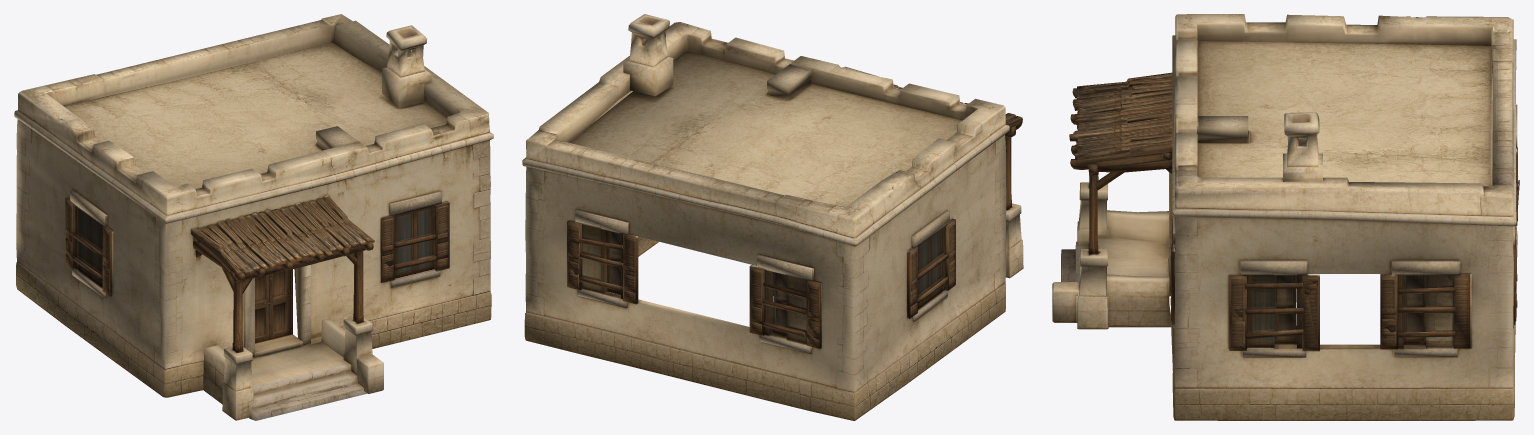
Rendered from generated-1948-03-netanya-flat-roof-porch-house.glb.
3 views of the same model, side by side, from view 1: azimuth 30°, elevation 25°; view 2: azimuth 150°, elevation 25°; view 3: azimuth 270°, elevation 25° (orthographic). The views are drawn at different scales.
Parts seen in each view (by area): view 1: tripo_node_6716e14b-27ac-4070-aac0-211de41f4bcf; view 2: tripo_node_6716e14b-27ac-4070-aac0-211de41f4bcf; view 3: tripo_node_6716e14b-27ac-4070-aac0-211de41f4bcf.
Part boxes in pixels (<box>): tripo_node_6716e14b-27ac-4070-aac0-211de41f4bcf: <box>14,14,493,420</box>; tripo_node_6716e14b-27ac-4070-aac0-211de41f4bcf: <box>522,14,1023,420</box>; tripo_node_6716e14b-27ac-4070-aac0-211de41f4bcf: <box>1052,14,1519,420</box>.
Bounding box in the file's own units: 0.9263 × 0.6772 × 0.9995.
Materials: 1 (1 with a texture image).
